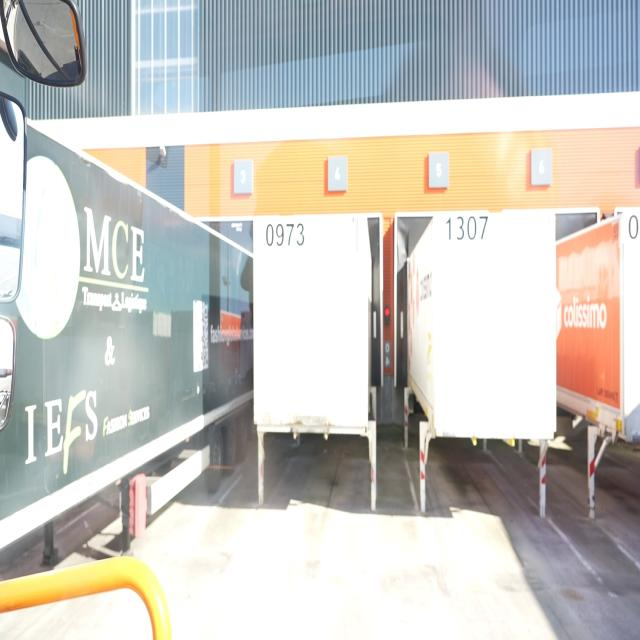Code: (264, 218, 310, 255), (442, 213, 490, 246)
